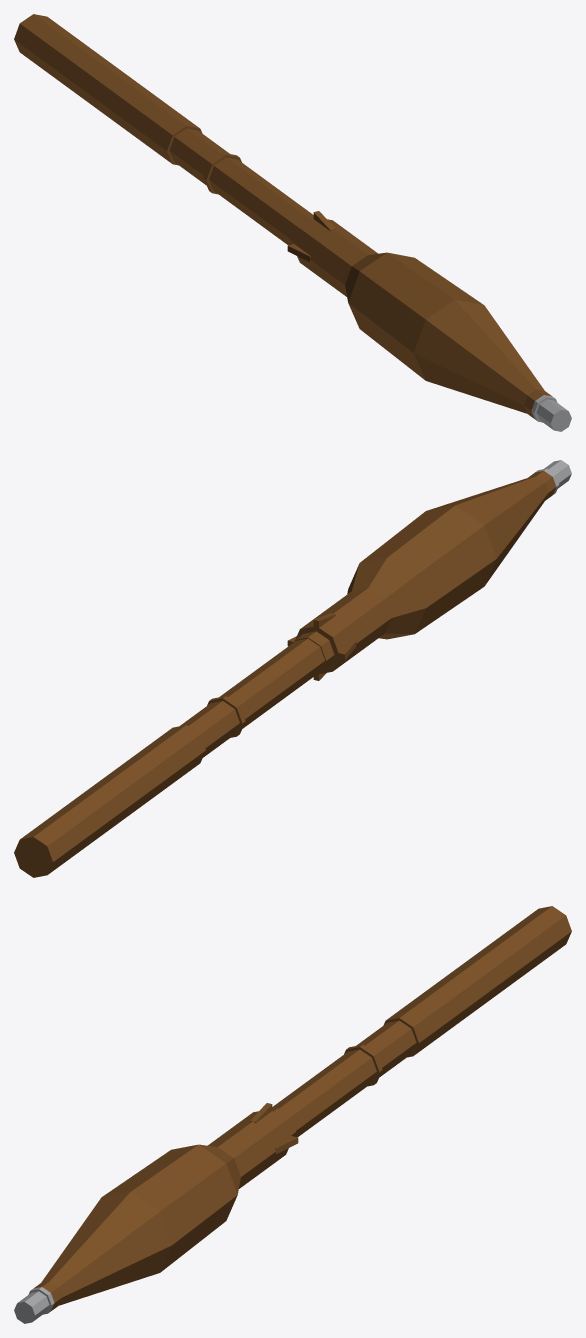
3 renders of one model, top to bottom at view 1: azimuth 30°, elevation 25°; view 2: azimuth 150°, elevation 25°; view 3: azimuth 330°, elevation 25°, orthographic.
Parts seen in each view (by area): view 1: pg7vl; view 2: pg7vl; view 3: pg7vl.
Part boxes in pixels (box(x1,y1,x2,y2)): pg7vl: box(14, 14, 571, 431); pg7vl: box(14, 460, 571, 877); pg7vl: box(14, 906, 571, 1323).
Bounding box in the file's own units: 0.0861 × 0.0861 × 0.95.
Materials: 1 (1 with a texture image).
